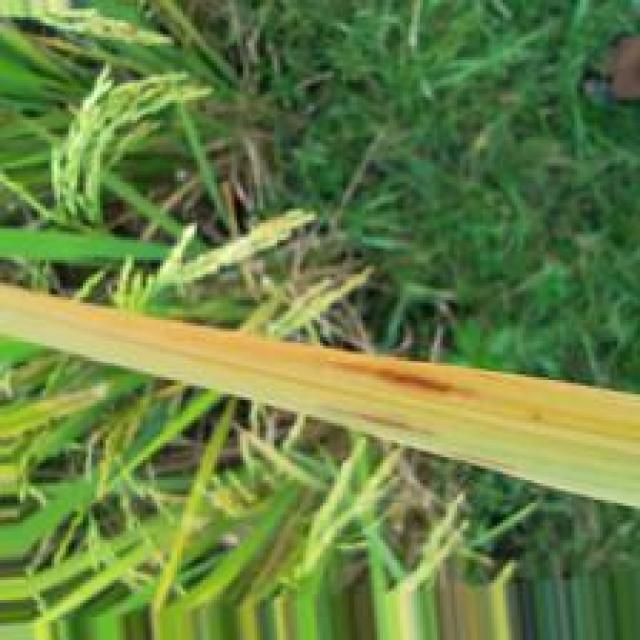Narrow_Brown_Leaf_Spot: (317, 347, 467, 405), (316, 405, 447, 439)
